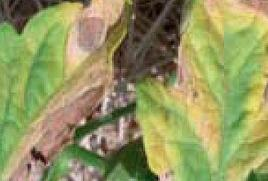Tomato Early blight leaf: (129, 0, 268, 181), (0, 0, 124, 181)
